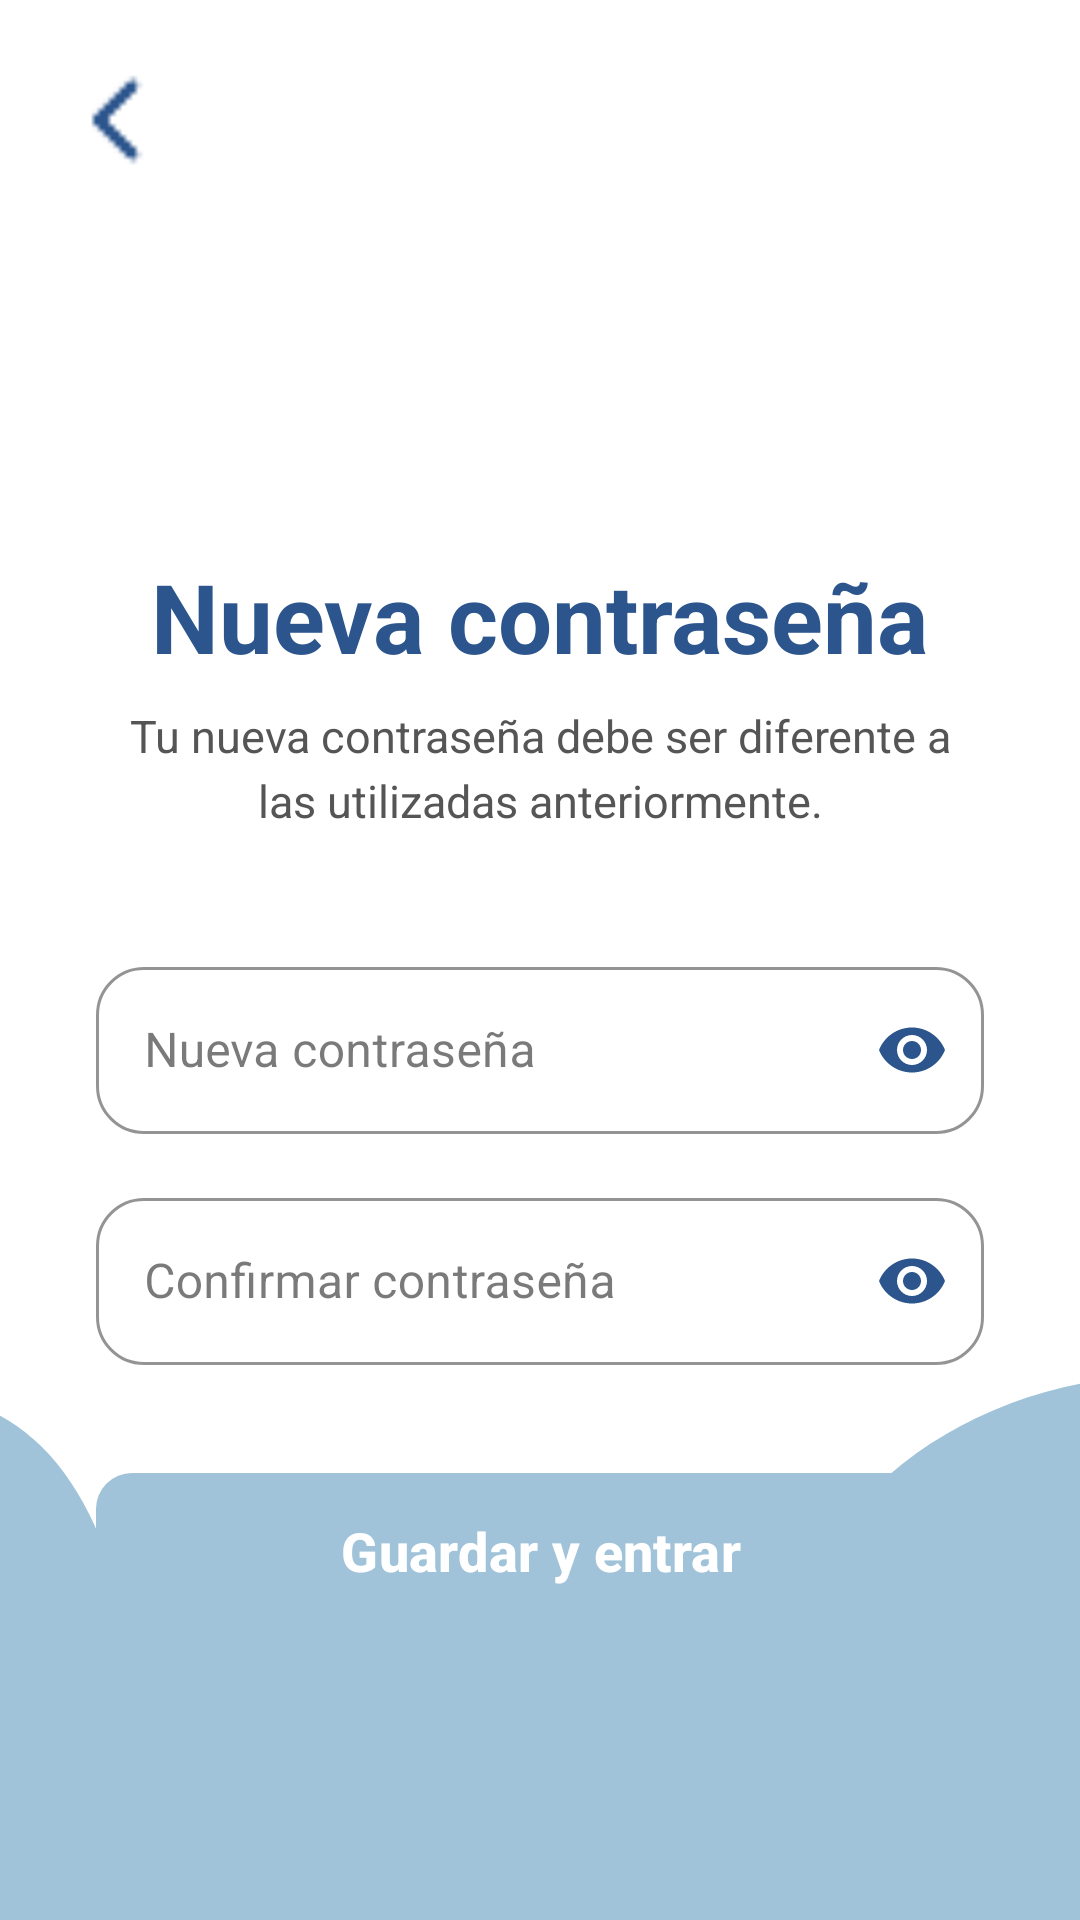

Named icons in this screenshot (1080 x 1920) and their centers, (x,y):
back arrow: (116,120)
